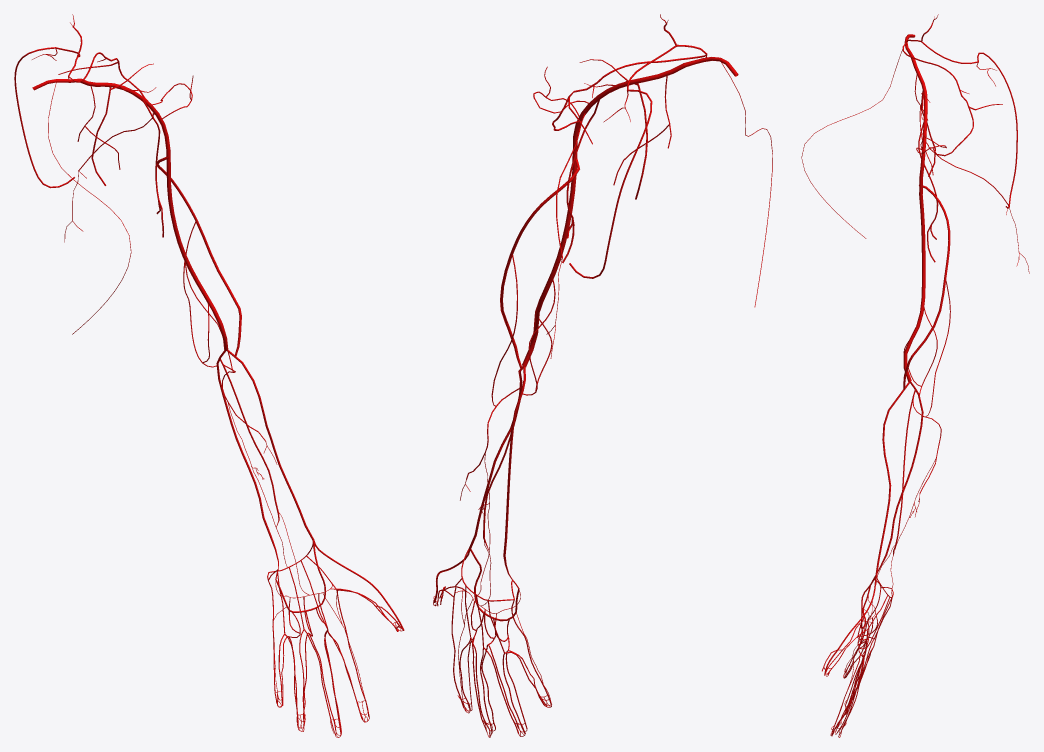
File: Upper limb Arteries L.fbx
3 renders of one model, left to right at view 1: azimuth 30°, elevation 25°; view 2: azimuth 150°, elevation 25°; view 3: azimuth 270°, elevation 25°, orthographic. The views are drawn at different scales.
Visible parts, largest first — view 1: Proper_palmar_digital_L, Dorsal_digital_L, Brachial_L; view 2: Dorsal_digital_L, Proper_palmar_digital_L, Brachial_L, Dorsal_scapular_transverse_scapular_deep_branch_L, Axillary_L, Ulnar_L; view 3: Proper_palmar_digital_L, Brachial_L, Dorsal_digital_L, Radial_L, Dorsal_scapular_transverse_scapular_deep_branch_L, Axillary_L, Ulnar_L.
Part boxes in pixels (bbox=[...]): Proper_palmar_digital_L: bbox=[272, 540, 404, 735]; Dorsal_digital_L: bbox=[272, 589, 402, 737]; Brachial_L: bbox=[166, 149, 228, 350]; Dorsal_digital_L: bbox=[433, 589, 551, 737]; Proper_palmar_digital_L: bbox=[434, 550, 551, 732]; Brachial_L: bbox=[522, 151, 577, 367]; Dorsal_scapular_transverse_scapular_deep_branch_L: bbox=[569, 45, 676, 278]; Axillary_L: bbox=[573, 63, 685, 150]; Ulnar_L: bbox=[503, 366, 525, 579]; Proper_palmar_digital_L: bbox=[822, 577, 876, 735]; Brachial_L: bbox=[903, 179, 925, 381]; Dorsal_digital_L: bbox=[825, 623, 874, 737]; Radial_L: bbox=[875, 382, 910, 609]; Dorsal_scapular_transverse_scapular_deep_branch_L: bbox=[921, 41, 1017, 208]; Axillary_L: bbox=[911, 58, 927, 179]; Ulnar_L: bbox=[873, 382, 923, 578].
Size of the model in its own units: 37.4 by 81.72 by 26.58.
